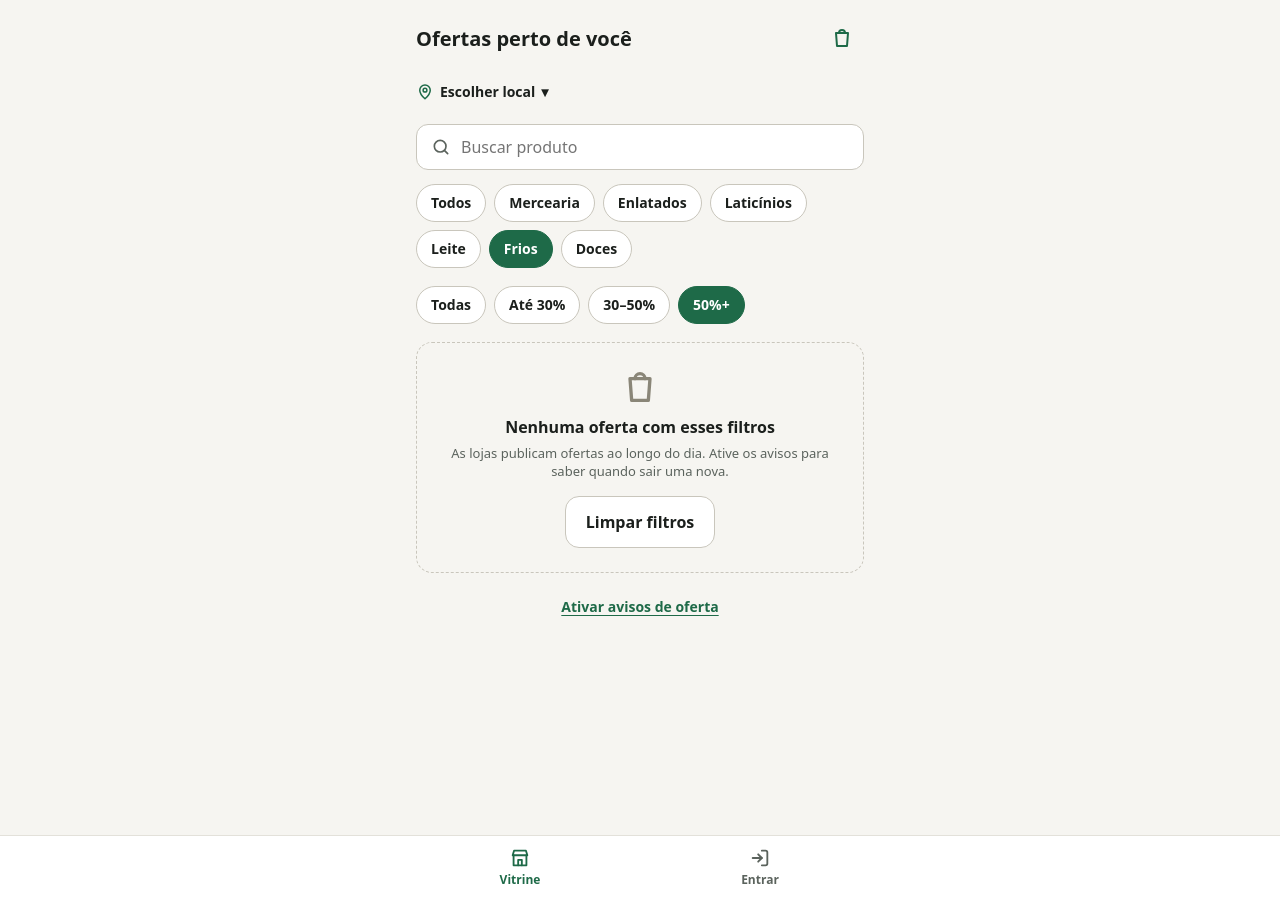
Test: C2 · Vitrine › vazio (Frios + 50%+): "Nenhuma oferta com esses filtros" e "Limpar filtros" volta tudo
Expected: the text "Nenhuma oferta com esses filtros" is shown, [505,417,775,438]
Click the button "Limpar filtros" at (640, 522), box [565,496,715,548]
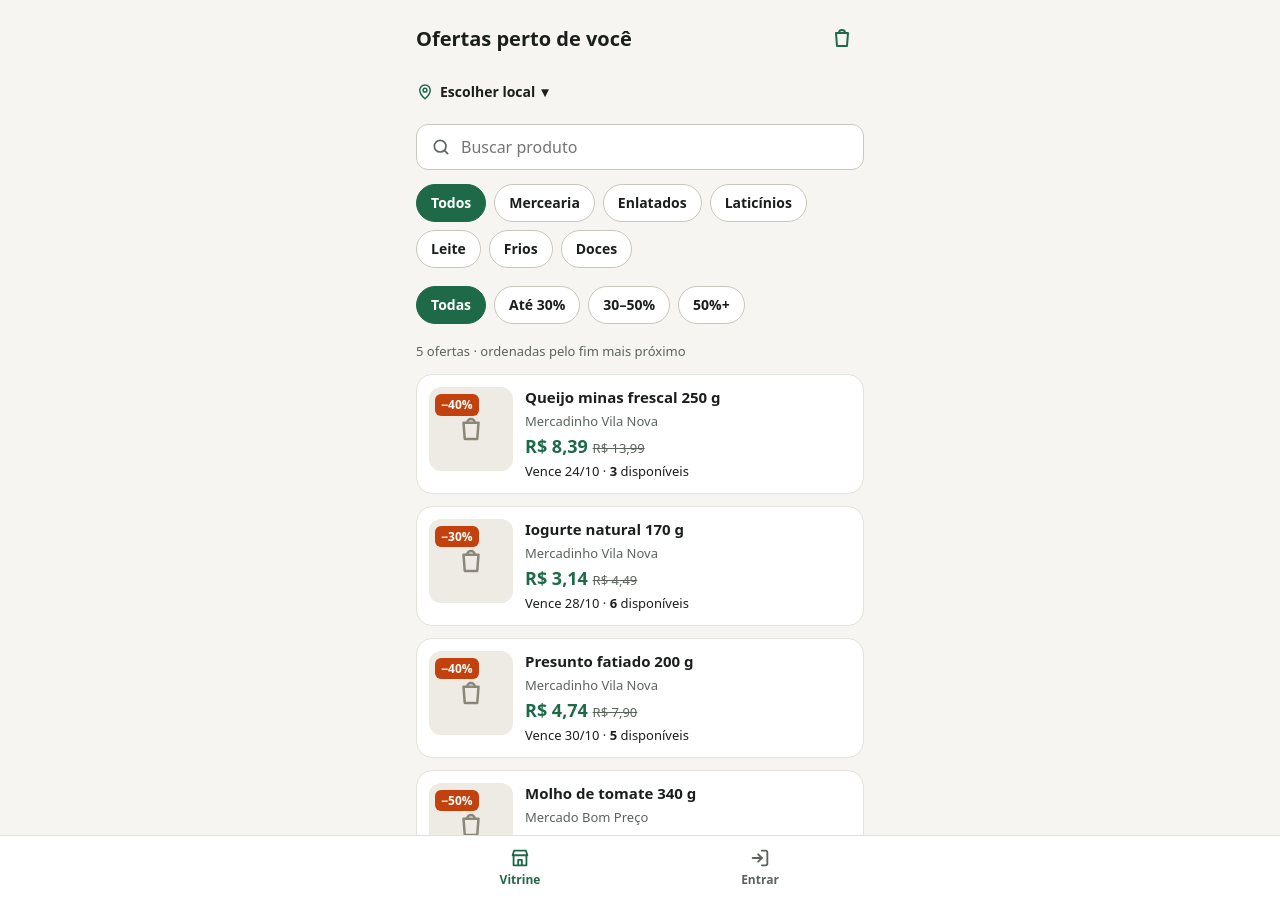
Now the text "5 ofertas · ordenadas pelo fim mais próximo" is shown, box [416,342,686,360]
